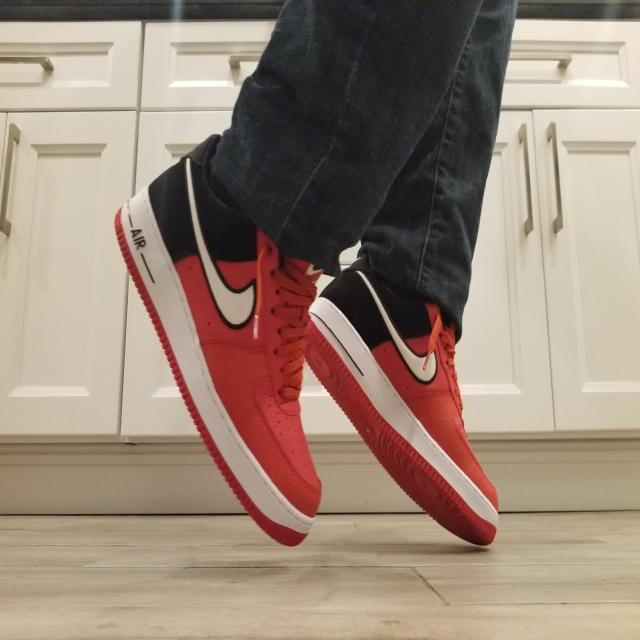shoe: (52, 129, 334, 567), (320, 248, 530, 546)
